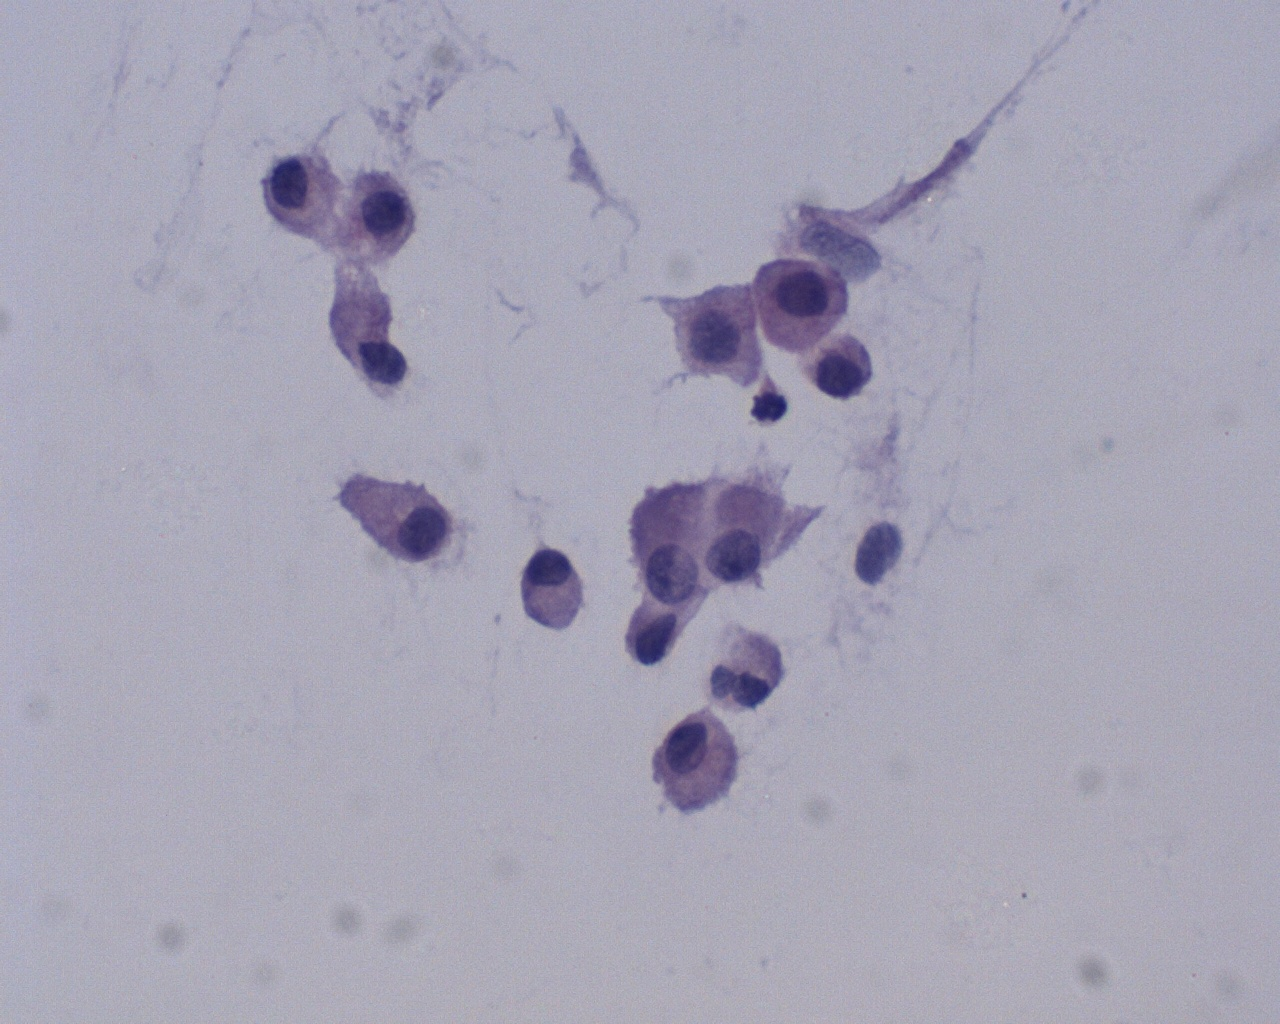meso: (644, 704, 740, 818), (750, 255, 853, 354), (338, 166, 418, 264), (370, 479, 453, 568), (259, 149, 343, 237), (514, 546, 591, 632)
